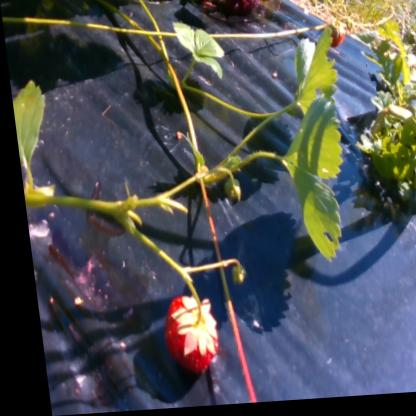ripe: (152, 293, 213, 378), (324, 19, 345, 53), (323, 4, 340, 35)
